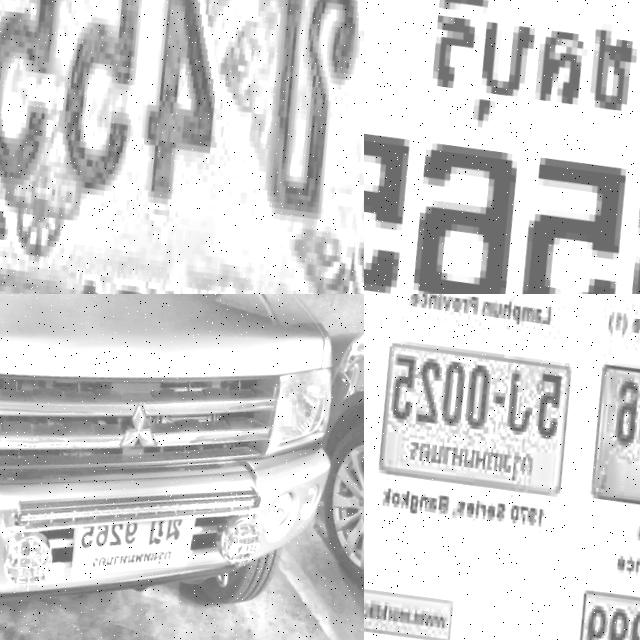license-plate: (0, 0, 364, 294), (364, 0, 640, 294), (364, 332, 577, 505), (57, 496, 194, 601), (573, 356, 640, 531)
